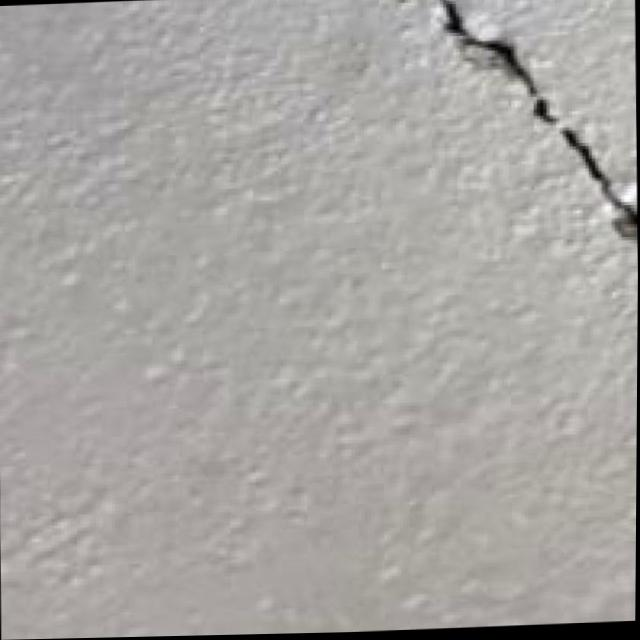Crack: (404, 0, 640, 329)
